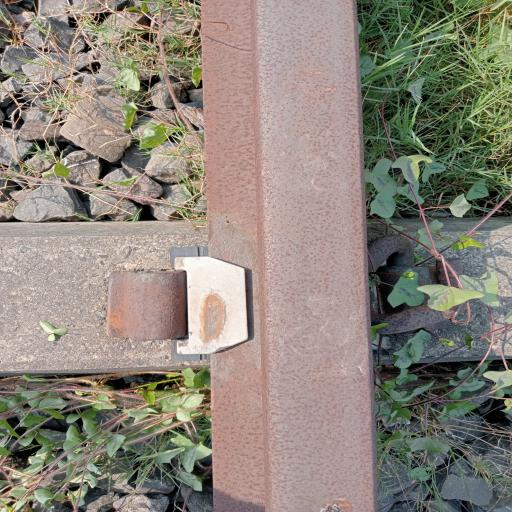mf: (52, 212, 259, 414)
